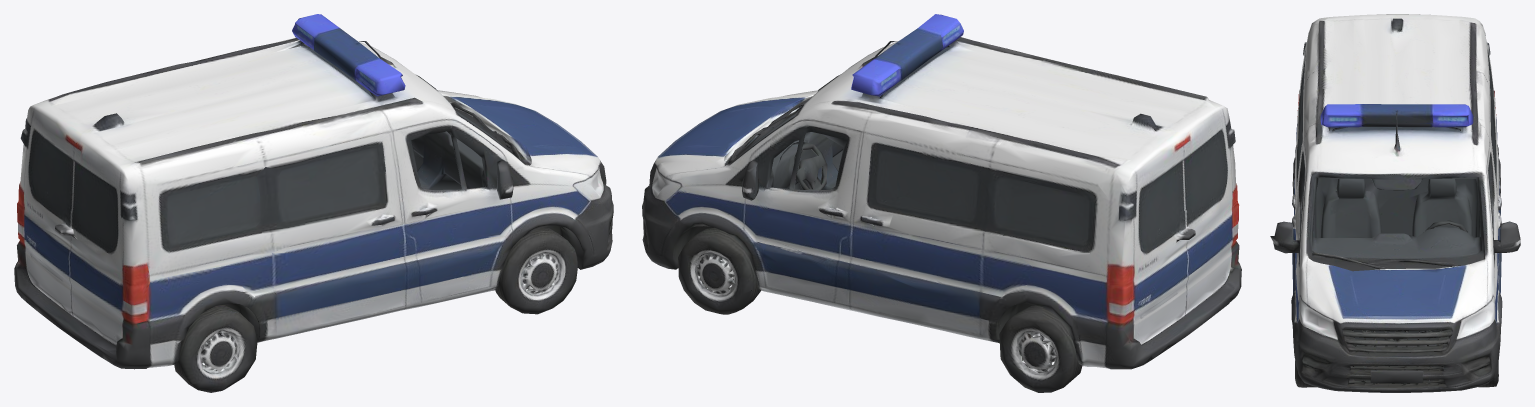
Rendered from prop.police_van.glb.
3 views of the same model, side by side, from view 1: azimuth 30°, elevation 25°; view 2: azimuth 150°, elevation 25°; view 3: azimuth 270°, elevation 25° (orthographic). The views are drawn at different scales.
Parts seen in each view (by area): view 1: tripo_node_bbc45971-3d65-49e4-a9f7-51467dc22863; view 2: tripo_node_bbc45971-3d65-49e4-a9f7-51467dc22863; view 3: tripo_node_bbc45971-3d65-49e4-a9f7-51467dc22863.
Boxes of the visible parts, x1,y1,x2,y2 form: tripo_node_bbc45971-3d65-49e4-a9f7-51467dc22863: [14, 14, 613, 392]; tripo_node_bbc45971-3d65-49e4-a9f7-51467dc22863: [642, 14, 1241, 392]; tripo_node_bbc45971-3d65-49e4-a9f7-51467dc22863: [1270, 14, 1520, 392].
Size of the model in its own units: 1 by 0.4777 by 0.4864.
1 material, 1 textured.
